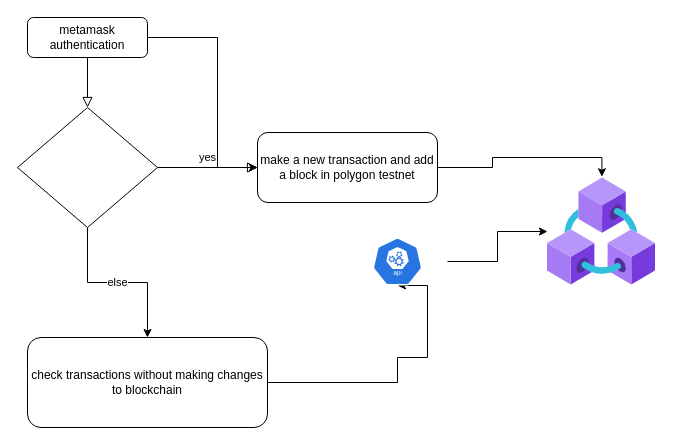
Some shapes in this 673 by 445 pixel diagram are drawn without their labels. The box of each missing label's shape, as (x1, y1, x2, y2) in pixels:
polygon blockchain: (547, 177, 655, 285)
Smart contarct for selection of voting: (16, 106, 158, 228)
